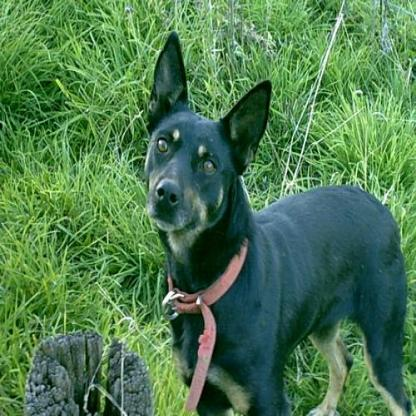kelpie: (142, 29, 414, 414)
